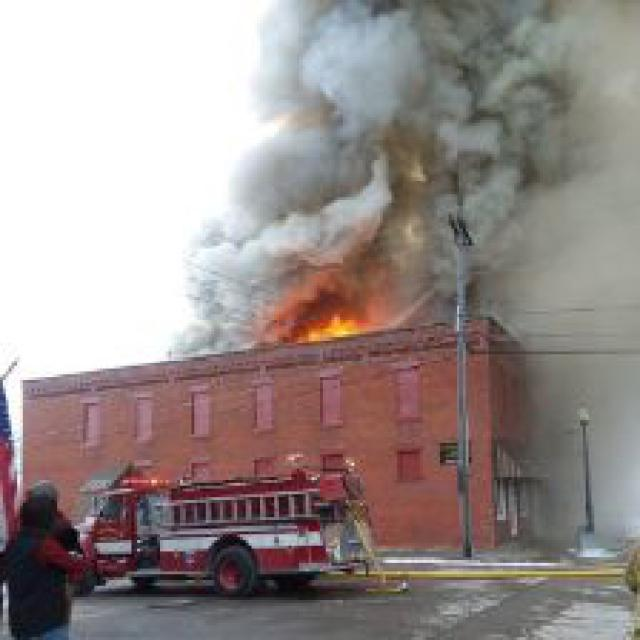fire: (266, 257, 388, 360)
